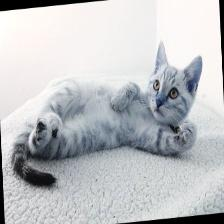kedo: (11, 41, 203, 186)
